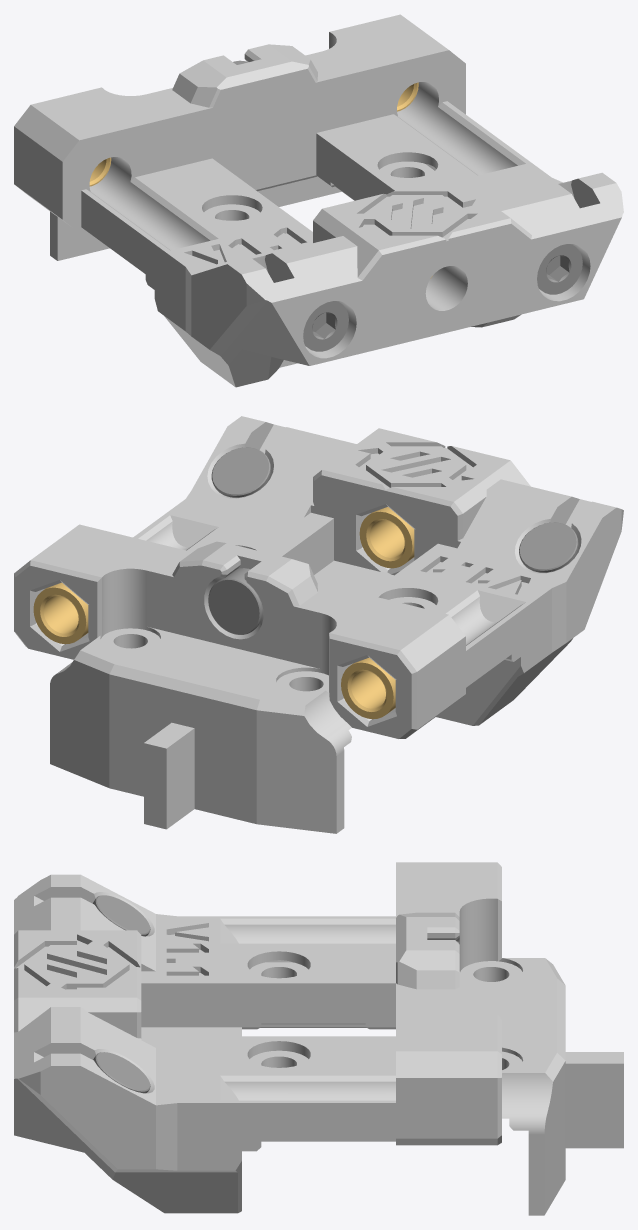
Rendered from Shuttle_MGN12.gltf.
3 renders of one model, top to bottom at view 1: azimuth 30°, elevation 25°; view 2: azimuth 150°, elevation 25°; view 3: azimuth 270°, elevation 25°, orthographic. The views are drawn at different scales.
Visible parts, largest first — view 1: Shuttle MGN12, M3x40 SHCS v002, M3x40 SHCS v1; view 2: Shuttle MGN12, Bushings x005, 6x3mm Magnets x3, Bushings x3, Bushings x004, 6x3mm Magnets x005, 6x3mm Magnets x004; view 3: Shuttle MGN12, 6x3mm Magnets x004, 6x3mm Magnets x005.
Part boxes in pixels (x1=…): Shuttle MGN12: x1=14, y1=14, x2=623, y2=387; M3x40 SHCS v002: x1=426, y1=164, x2=582, y2=294; M3x40 SHCS v1: x1=303, y1=301, x2=348, y2=351; Shuttle MGN12: x1=14, y1=416, x2=623, y2=833; Bushings x005: x1=33, y1=582, x2=88, y2=644; 6x3mm Magnets x3: x1=208, y1=568, x2=261, y2=634; Bushings x3: x1=359, y1=507, x2=414, y2=568; Bushings x004: x1=341, y1=657, x2=395, y2=719; 6x3mm Magnets x005: x1=519, y1=522, x2=578, y2=572; 6x3mm Magnets x004: x1=211, y1=447, x2=271, y2=497; Shuttle MGN12: x1=14, y1=862, x2=623, y2=1215; 6x3mm Magnets x004: x1=93, y1=1052, x2=150, y2=1093; 6x3mm Magnets x005: x1=93, y1=895, x2=150, y2=936.
Size of the model in its own units: 0.0459 by 0.0217 by 0.0575.
